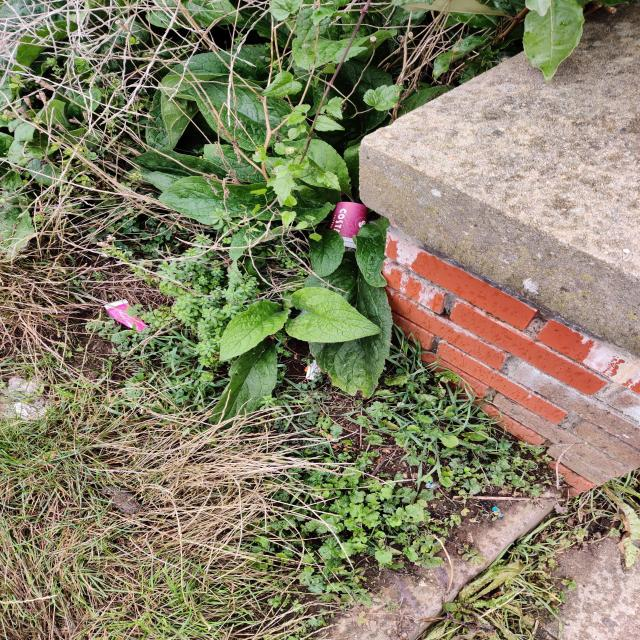litter: (313, 199, 372, 255), (108, 302, 145, 338)
